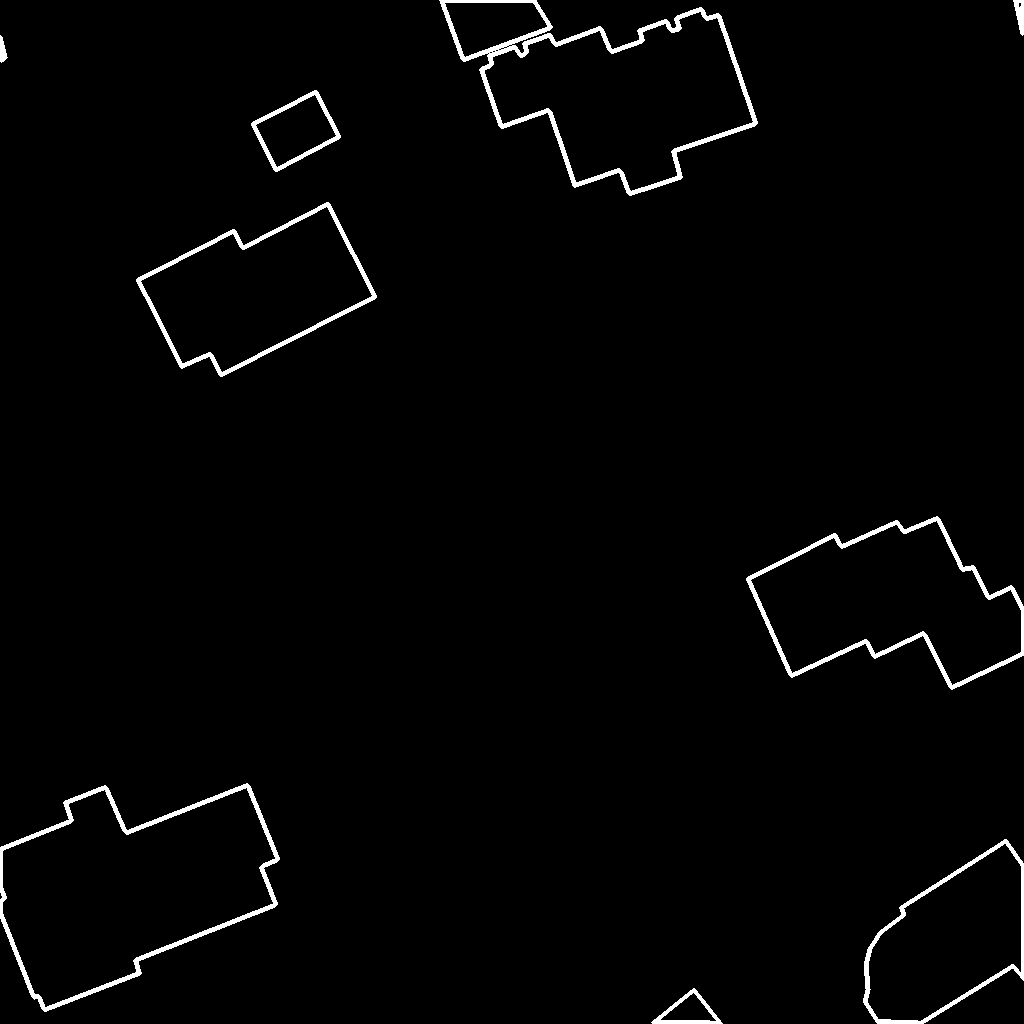building: (0, 785, 279, 1011), (481, 9, 757, 195), (748, 518, 1024, 689), (138, 204, 376, 376), (865, 841, 1024, 1024), (253, 92, 340, 171), (441, 0, 552, 61), (653, 990, 722, 1024), (1015, 0, 1024, 37), (0, 36, 6, 62)
